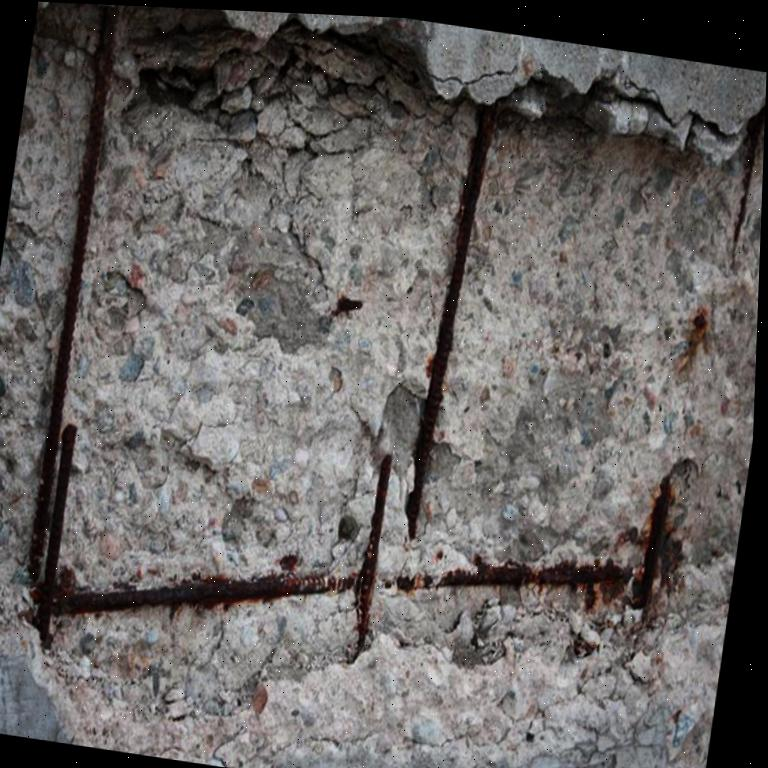exposed_rebar: (34, 426, 392, 653), (29, 5, 120, 582), (406, 100, 509, 539), (383, 475, 673, 608), (741, 113, 763, 220)
spalling: (0, 2, 765, 768)
